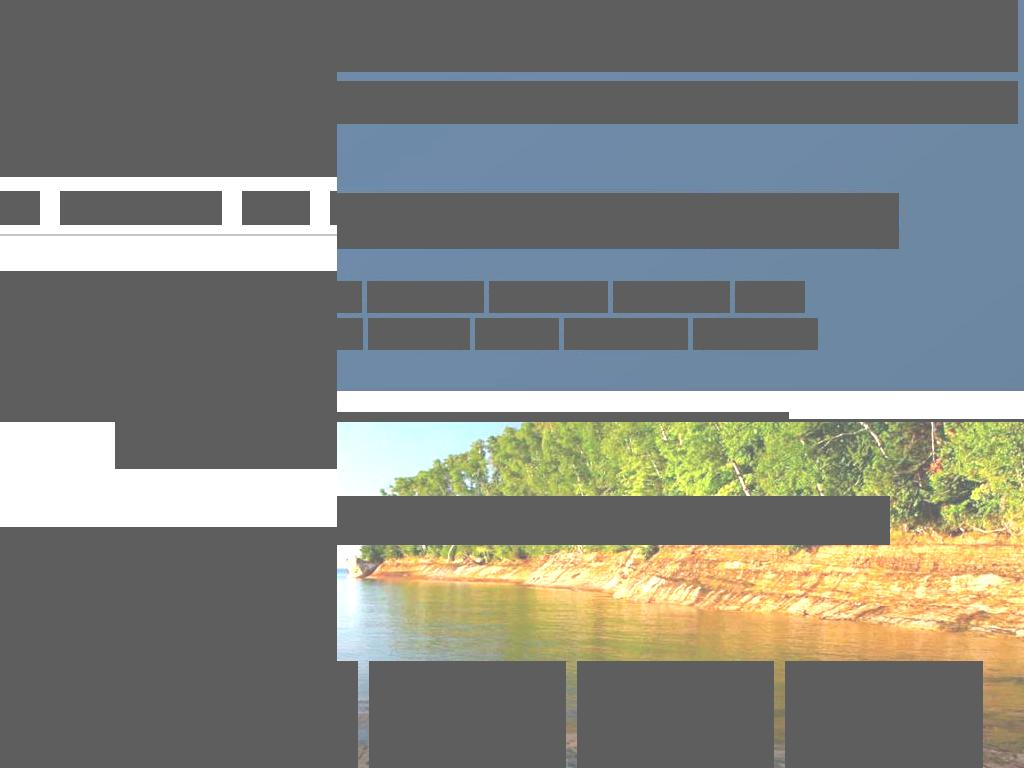button: (0, 271, 337, 422), (785, 661, 983, 768), (369, 661, 566, 768), (577, 661, 774, 768), (693, 193, 899, 249), (115, 422, 337, 469), (60, 191, 222, 225), (693, 318, 818, 350), (564, 318, 688, 350), (489, 281, 608, 313), (367, 281, 484, 313), (613, 281, 730, 313), (368, 318, 470, 350), (475, 318, 559, 350), (242, 191, 310, 225), (735, 281, 805, 313), (0, 191, 40, 225), (337, 318, 363, 350), (337, 281, 362, 313)
field: (337, 496, 890, 545), (337, 193, 753, 249)
heading: (337, 0, 1018, 72), (0, 1, 337, 122), (337, 81, 1018, 124)
image: (0, 527, 337, 768), (0, 271, 337, 422), (859, 681, 909, 730), (443, 681, 492, 730), (651, 681, 700, 730), (3, 138, 13, 149), (17, 138, 27, 149)
text: (0, 0, 337, 177), (163, 422, 337, 447), (616, 730, 735, 756), (831, 730, 937, 756), (723, 210, 835, 231), (422, 730, 512, 756)
